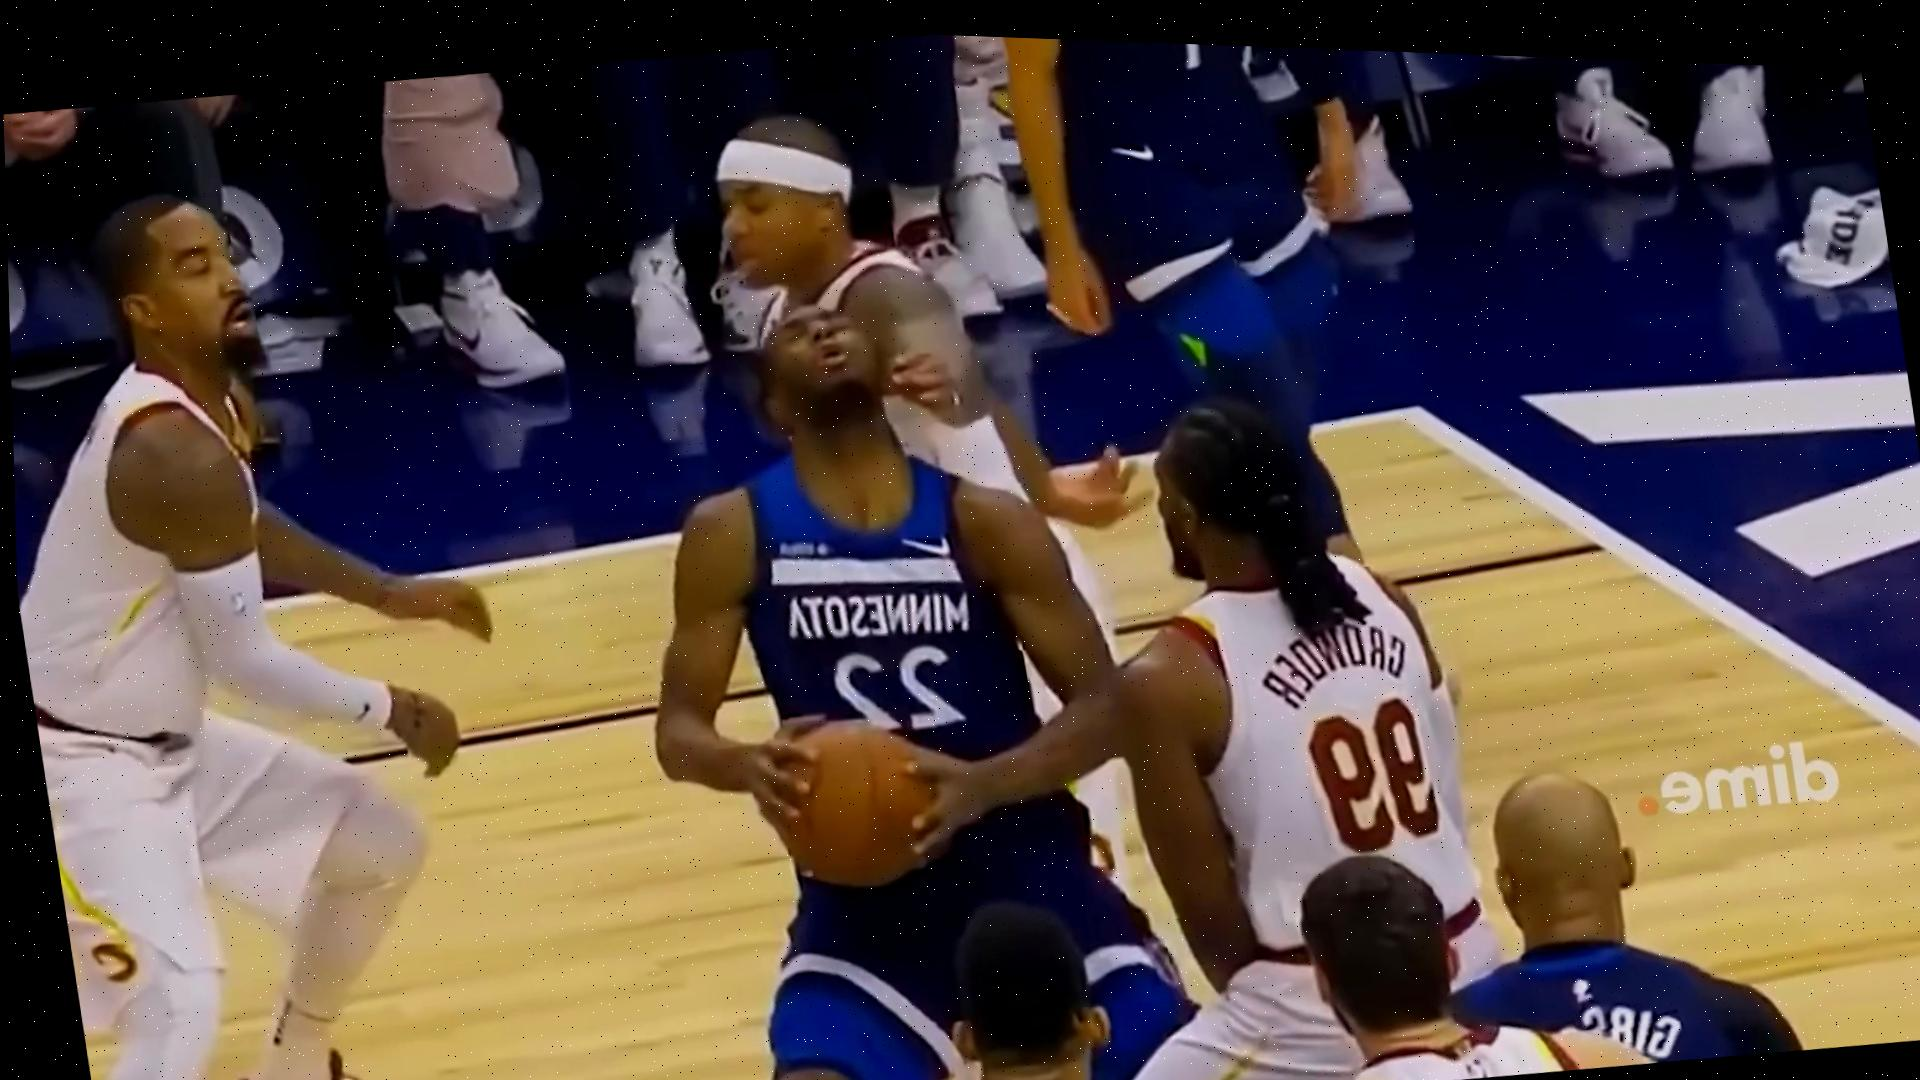no_foul: (583, 98, 1188, 1080)
